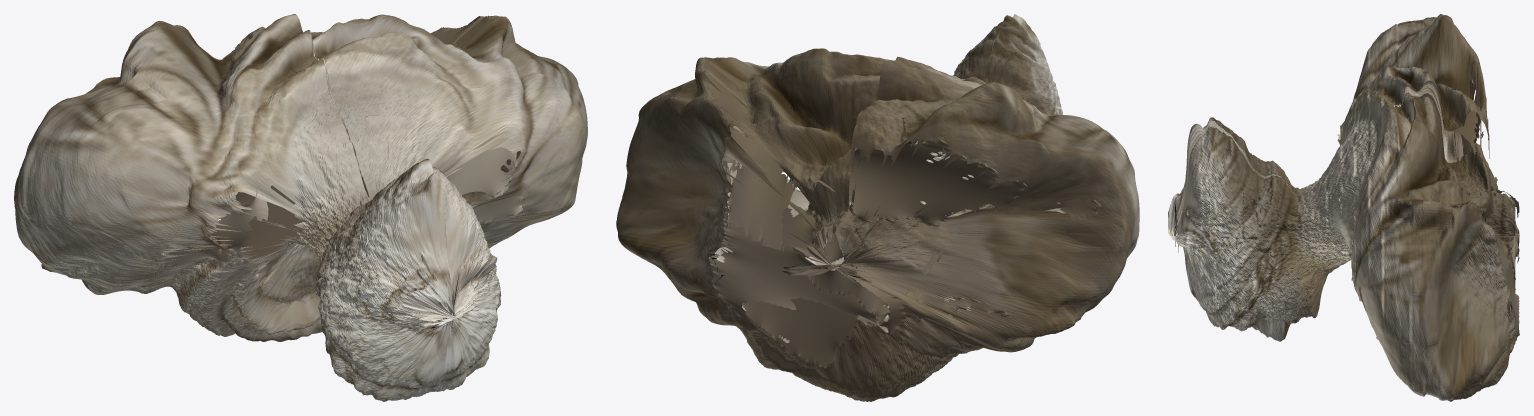
The model's file is guess_mesh.glb.
3 renders of one model, left to right at view 1: azimuth 30°, elevation 25°; view 2: azimuth 150°, elevation 25°; view 3: azimuth 270°, elevation 25°, orthographic. The views are drawn at different scales.
Parts seen in each view (by area): view 1: ipn, fill; view 2: ipn, fill; view 3: ipn, fill.
Part boxes in pixels (x1,y1,x2,y2): ipn: (14, 14, 587, 401); fill: (158, 15, 523, 277); ipn: (616, 14, 1139, 401); fill: (704, 62, 1100, 368); ipn: (1168, 14, 1516, 401); fill: (1337, 79, 1519, 343).
Size of the model in its own units: 1.78 by 1.09 by 1.18.
Materials: 2 (1 with a texture image).
